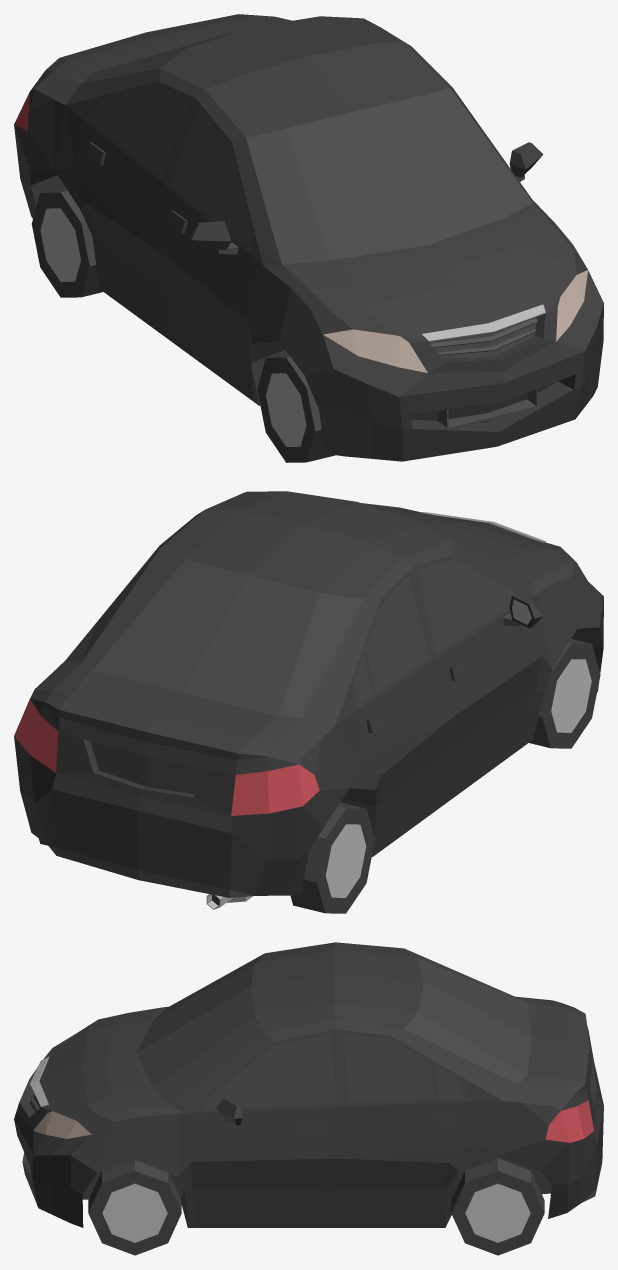
Rendered from CarSedan1Black.fbx.
The picture shows the model from 3 angles, top to bottom: view 1: azimuth 30°, elevation 25°; view 2: azimuth 150°, elevation 25°; view 3: azimuth 270°, elevation 25°; orthographic projection. The views are drawn at different scales.
Parts seen in each view (by area): view 1: Cube, wheel_rr, wheel_fr; view 2: Cube, wheel_rr, wheel_fr; view 3: Cube, wheel_rl, wheel_fl.
Part boxes in pixels (<box>): Cube: <box>14,14,603,461</box>; wheel_rr: <box>31,187,102,297</box>; wheel_fr: <box>257,353,335,462</box>; Cube: <box>14,491,603,909</box>; wheel_rr: <box>290,802,374,913</box>; wheel_fr: <box>529,638,600,748</box>; Cube: <box>14,942,603,1227</box>; wheel_rl: <box>451,1158,544,1255</box>; wheel_fl: <box>88,1160,181,1255</box>.
Size of the model in its own units: 2.04 by 1.55 by 3.67.
